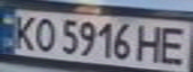1: (93, 19, 115, 58)
5: (57, 16, 81, 56)
6: (112, 20, 136, 61)
9: (75, 18, 100, 57)
E: (157, 24, 190, 65)
H: (133, 21, 166, 63)
K: (6, 12, 42, 51)
O: (30, 15, 60, 53)
